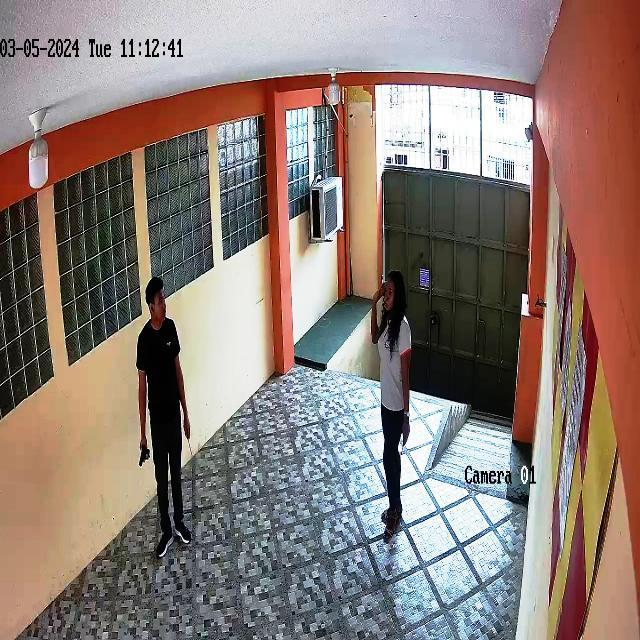Gun: (130, 434, 158, 473)
Knife: (389, 419, 418, 454)
